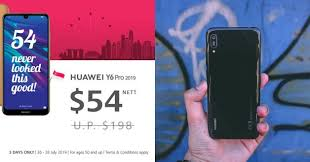huawei: (205, 22, 261, 141)
